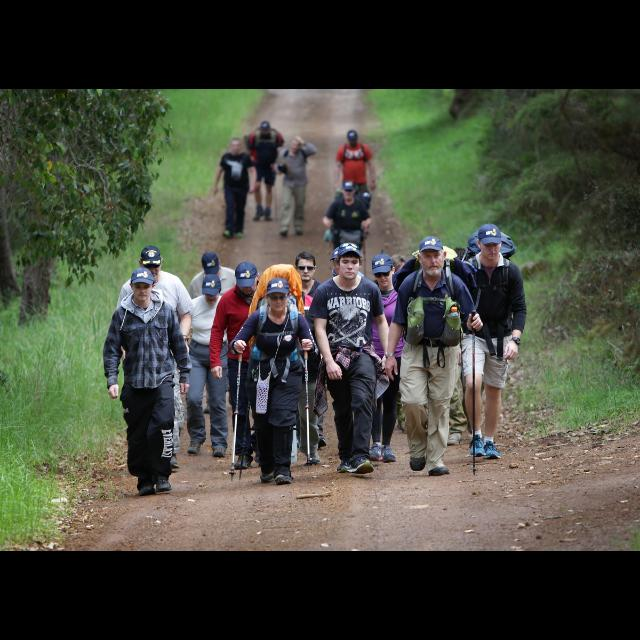head: (416, 244, 449, 278), (335, 242, 363, 282), (476, 226, 504, 260), (129, 270, 157, 302), (138, 247, 164, 281), (235, 262, 261, 296), (266, 280, 292, 314), (372, 254, 396, 288), (294, 252, 318, 284), (278, 270, 302, 298), (202, 276, 222, 306), (391, 254, 412, 282), (201, 252, 221, 278), (452, 250, 468, 270), (342, 183, 358, 200), (290, 138, 304, 154), (230, 138, 242, 156), (260, 123, 272, 135), (348, 132, 358, 146)
person: (384, 235, 484, 480), (102, 266, 195, 500), (306, 239, 396, 476), (228, 262, 320, 488), (114, 243, 196, 472), (451, 222, 529, 462), (208, 260, 288, 472), (257, 270, 331, 468), (355, 252, 421, 464), (176, 272, 244, 460), (274, 250, 336, 452), (431, 246, 493, 448), (367, 252, 428, 436), (186, 250, 248, 416), (321, 180, 374, 280), (269, 134, 319, 238), (212, 136, 258, 242), (242, 120, 286, 222), (332, 128, 378, 225)
